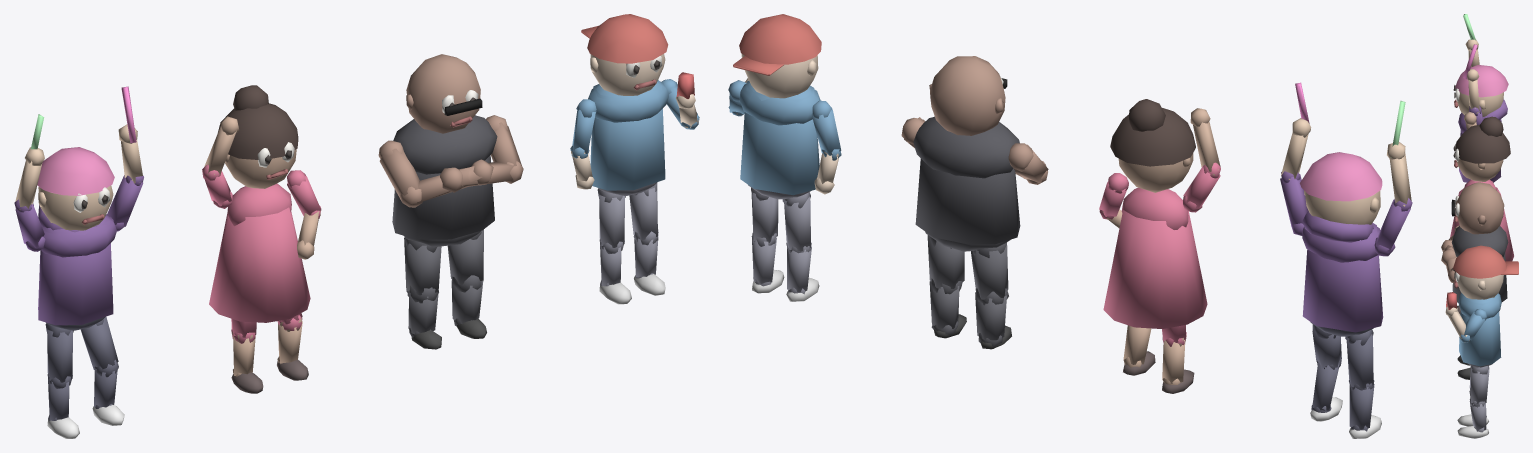
File: crowd.glb
3 renders of one model, left to right at view 1: azimuth 30°, elevation 25°; view 2: azimuth 150°, elevation 25°; view 3: azimuth 270°, elevation 25°, orthographic. The views are drawn at different scales.
Visible parts, largest first — view 1: crowd.bouncer, crowd.dancer, crowd.raver, crowd.bro; view 2: crowd.bouncer, crowd.dancer, crowd.raver, crowd.bro; view 3: crowd.bro, crowd.bouncer, crowd.dancer, crowd.raver.
Boxes of the visible parts, x1,y1,x2,y2 form: crowd.bouncer: (378, 54, 523, 349); crowd.dancer: (202, 85, 321, 393); crowd.raver: (14, 86, 143, 438); crowd.bro: (570, 14, 699, 304); crowd.bouncer: (901, 56, 1048, 349); crowd.dancer: (1099, 99, 1220, 393); crowd.raver: (1280, 82, 1412, 438); crowd.bro: (728, 14, 841, 301); crowd.bro: (1445, 245, 1518, 438); crowd.bouncer: (1441, 182, 1508, 379); crowd.dancer: (1450, 112, 1513, 314); crowd.raver: (1453, 14, 1508, 182).
Size of the model in its own units: 5.5 by 2.58 by 0.8207.
